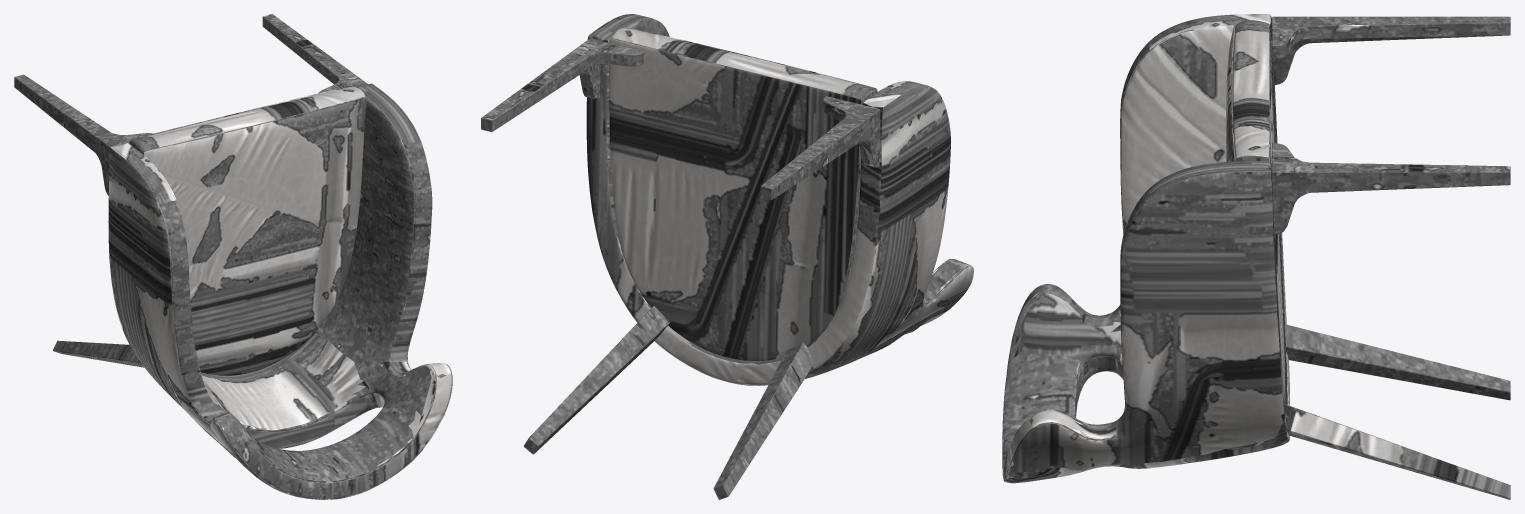
3 views of the same model, side by side, from view 1: azimuth 30°, elevation 25°; view 2: azimuth 150°, elevation 25°; view 3: azimuth 270°, elevation 25° (orthographic). The views are drawn at different scales.
Size of the model in its own units: 0.6992 by 0.7664 by 0.9276.
